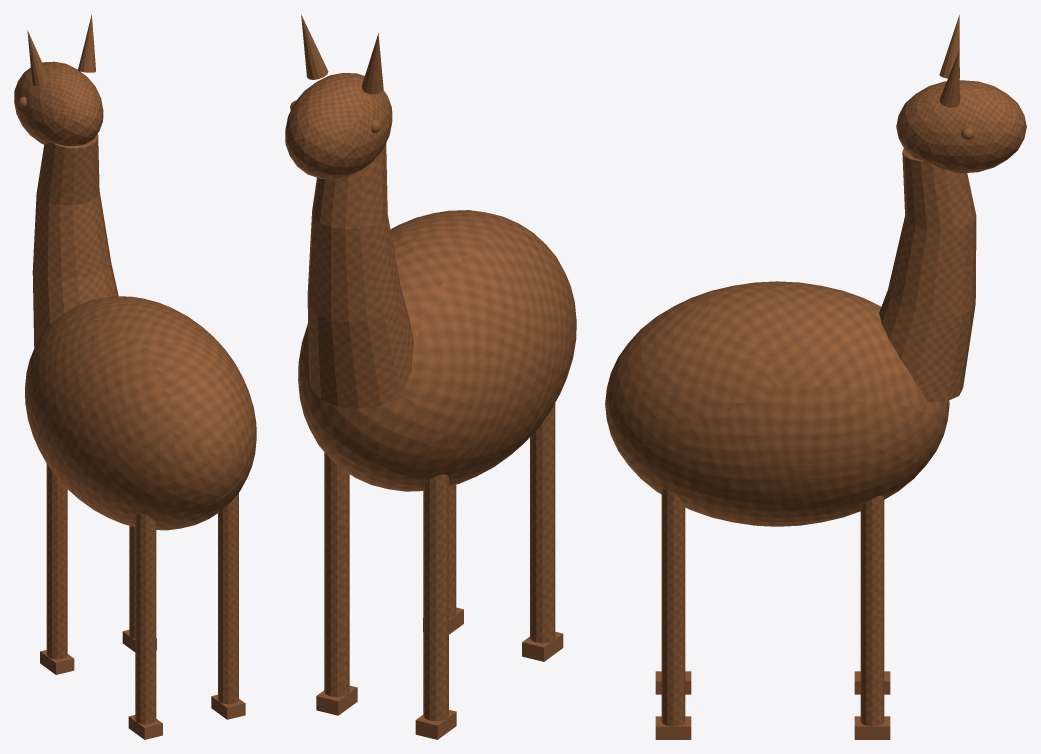
Rendered from llama_pbr_repair.glb.
3 views of the same model, side by side, from view 1: azimuth 30°, elevation 25°; view 2: azimuth 150°, elevation 25°; view 3: azimuth 270°, elevation 25° (orthographic). The views are drawn at different scales.
Parts seen in each view (by area): view 1: world, neck_ruff, head, leg_HL, leg_HR, leg_FL, leg_FR, ear_1, ear_-1, leg_FL_foot, leg_HL_foot, leg_HR_foot; view 2: world, neck_ruff, head, leg_FL, leg_FR, leg_HL, leg_HR, ear_1, ear_-1, leg_FR_foot, leg_HL_foot, leg_FL_foot; view 3: world, neck_ruff, head, leg_HR, leg_FR, ear_1, leg_FR_foot.
Part boxes in pixels (x1,y1,x2,y2): world: (25,296,256,530); neck_ruff: (32,134,118,347); head: (14,61,103,145); leg_HL: (135,513,156,724); leg_HR: (218,493,238,704); leg_FL: (46,464,67,659); leg_FR: (129,525,135,638); ear_1: (78,14,95,72); ear_-1: (27,30,49,85); leg_FL_foot: (40,650,74,674); leg_HL_foot: (128,715,162,739); leg_HR_foot: (211,694,245,719); world: (298,210,576,491); neck_ruff: (307,143,413,408); head: (285,73,392,179); leg_FL: (423,474,448,721); leg_FR: (324,452,349,696); leg_HL: (530,403,555,643); leg_HR: (449,485,456,618); ear_1: (301,14,328,79); ear_-1: (362,33,383,94); leg_FR_foot: (316,685,357,715); leg_HL_foot: (522,631,563,661); leg_FL_foot: (415,710,456,739); world: (605,281,949,526); neck_ruff: (879,148,976,402); head: (896,80,1026,173); leg_HR: (661,489,685,726); leg_FR: (860,495,884,726); ear_1: (939,50,959,107); leg_FR_foot: (854,716,890,739).
Bounding box in the file's own units: 0.76 × 2.53 × 1.42.
Materials: 1 (1 with a texture image).
